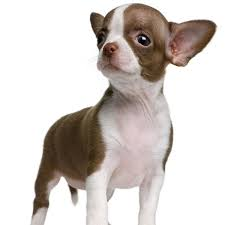chihuahua: (31, 2, 217, 214)
